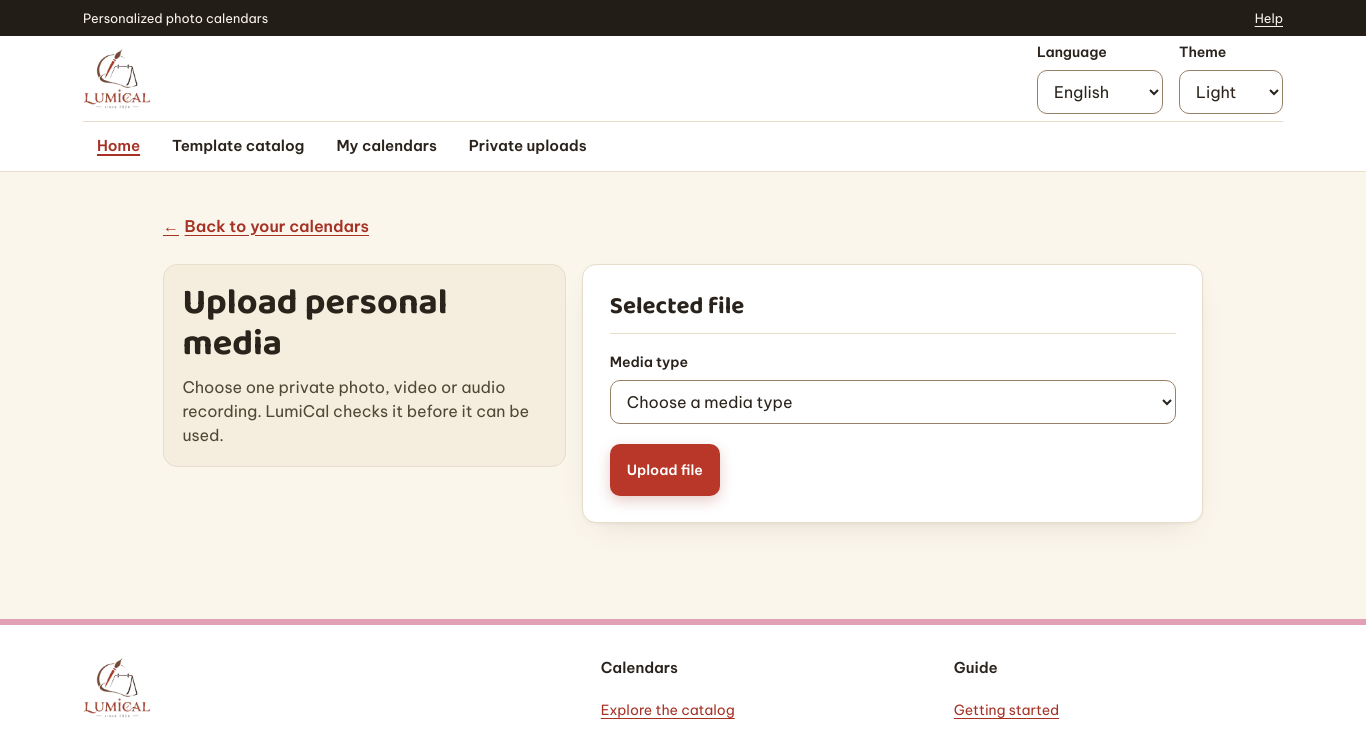
Scenario: private media upload experience › announces the labeled keyboard-operable chooser and approved limits
Select "Image for a calendar page" in the dropdown labelled "Media type". click: (893, 402)
box: [610,380,1176,424]
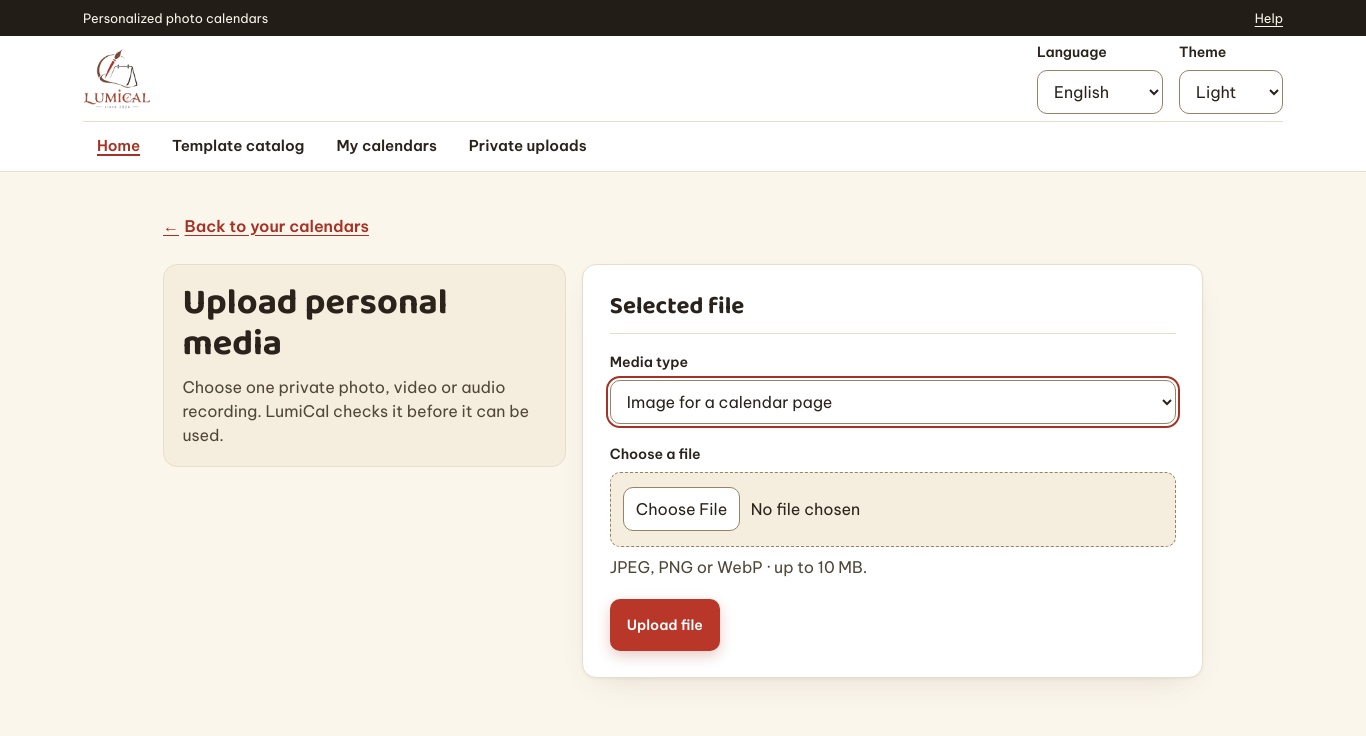
Check: the text "JPEG, PNG or WebP · up to 10 MB." is shown, box [610,557,867,577]
Check: the file field labelled "Choose a file" is enabled, box [610,472,1176,547]
